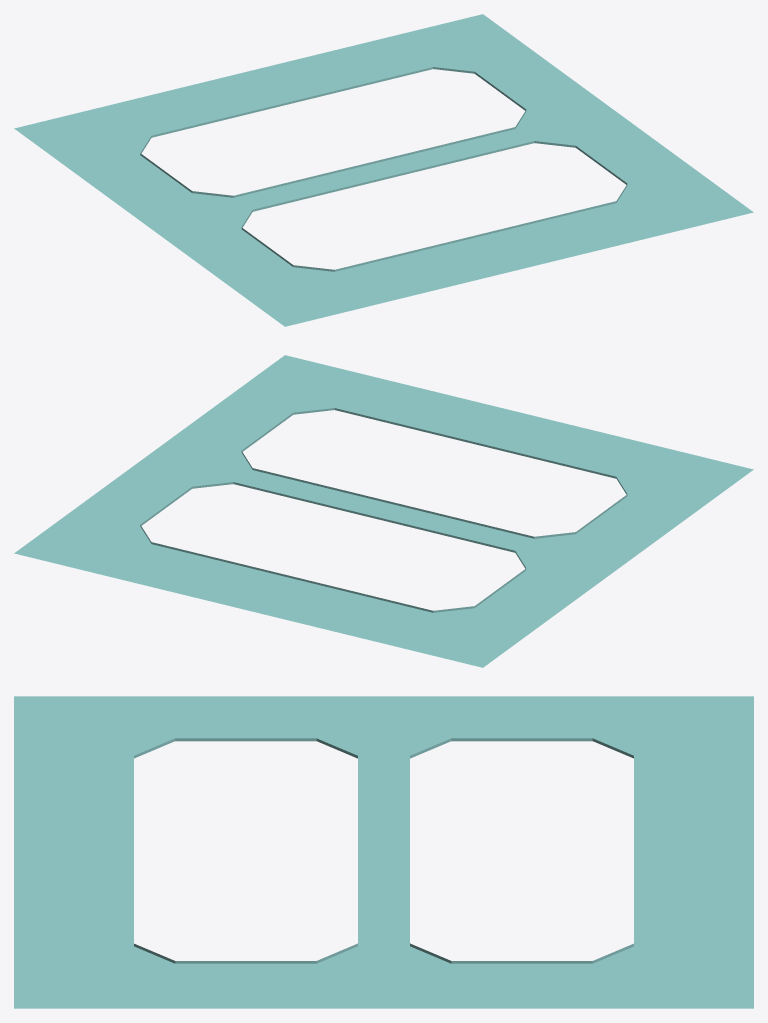
The model's file is TS2_Collider_TianHuaBan.FBX.
The picture shows the model from 3 angles, top to bottom: view 1: azimuth 30°, elevation 25°; view 2: azimuth 150°, elevation 25°; view 3: azimuth 270°, elevation 25°; orthographic projection. The views are drawn at different scales.
Visible parts, largest first — view 1: Collider_TianHuaBan; view 2: Collider_TianHuaBan; view 3: Collider_TianHuaBan.
Boxes of the visible parts, x1,y1,x2,y2 form: Collider_TianHuaBan: (14,14,753,326); Collider_TianHuaBan: (14,355,753,667); Collider_TianHuaBan: (14,696,753,1008).
Size of the model in its own units: 58.95 by 0.2524 by 59.
